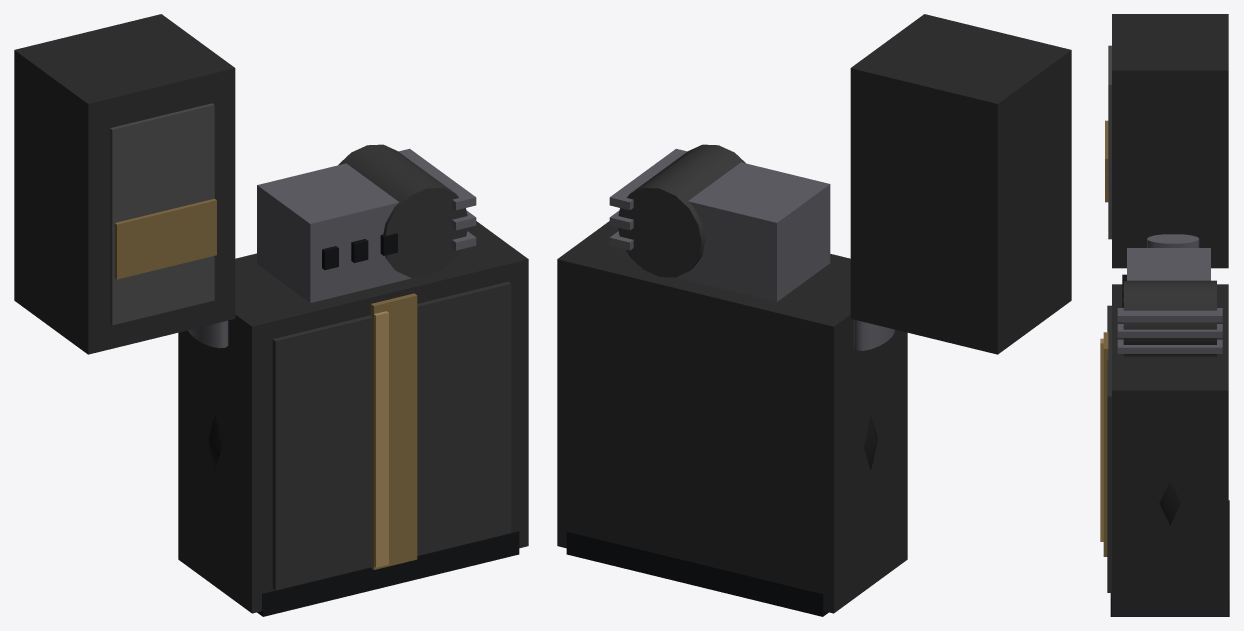
Rendered from CMU3DHandRMCZippoExecCloudOpenStudy.glb.
3 renders of one model, left to right at view 1: azimuth 30°, elevation 25°; view 2: azimuth 150°, elevation 25°; view 3: azimuth 270°, elevation 25°, orthographic. The views are drawn at different scales.
Visible parts, largest first — view 1: front enamel panel, opened lid shell, black lighter lower body, lid inner well, silver chimney plate, gold center inlay, flint striker wheel, case bottom rim, lid interior gold band, gold inlay side glint, wheel teeth 0.277, hinge barrel; view 2: black lighter lower body, opened lid shell, silver chimney plate, flint striker wheel, case bottom rim, wheel teeth 0.277, hinge barrel; view 3: black lighter lower body, opened lid shell, flint striker wheel, silver chimney plate, front enamel panel, wheel teeth 0.277, gold center inlay, wheel teeth 0.247, wheel teeth 0.262, gold inlay side glint, lid inner well, hinge barrel (+3 smaller).
Part boxes in pixels (<box>): front enamel panel: <box>272,282,511,590</box>; opened lid shell: <box>14,14,235,354</box>; black lighter lower body: <box>178,221,528,613</box>; lid inner well: <box>110,103,214,325</box>; silver chimney plate: <box>257,163,411,302</box>; gold center inlay: <box>371,293,417,569</box>; flint striker wheel: <box>338,144,467,277</box>; case bottom rim: <box>257,531,519,616</box>; lid interior gold band: <box>114,198,216,279</box>; gold inlay side glint: <box>374,311,388,567</box>; wheel teeth 0.277: <box>398,148,476,210</box>; hinge barrel: <box>188,320,228,348</box>; black lighter lower body: <box>557,221,907,613</box>; opened lid shell: <box>850,14,1071,354</box>; silver chimney plate: <box>676,162,830,301</box>; flint striker wheel: <box>618,144,745,277</box>; case bottom rim: <box>566,531,828,616</box>; wheel teeth 0.277: <box>609,148,687,210</box>; hinge barrel: <box>853,319,894,350</box>; black lighter lower body: <box>1112,284,1228,616</box>; opened lid shell: <box>1112,14,1228,268</box>; flint striker wheel: <box>1123,280,1216,357</box>; silver chimney plate: <box>1127,248,1210,280</box>; front enamel panel: <box>1107,305,1111,592</box>; wheel teeth 0.277: <box>1117,308,1222,322</box>; gold center inlay: <box>1103,332,1108,556</box>; wheel teeth 0.247: <box>1117,339,1222,353</box>; wheel teeth 0.262: <box>1117,324,1222,337</box>; gold inlay side glint: <box>1100,338,1103,541</box>; lid inner well: <box>1108,45,1111,239</box>; hinge barrel: <box>1147,234,1199,247</box>.
Bounding box in the file's own units: 0.349 × 0.414 × 0.111.
